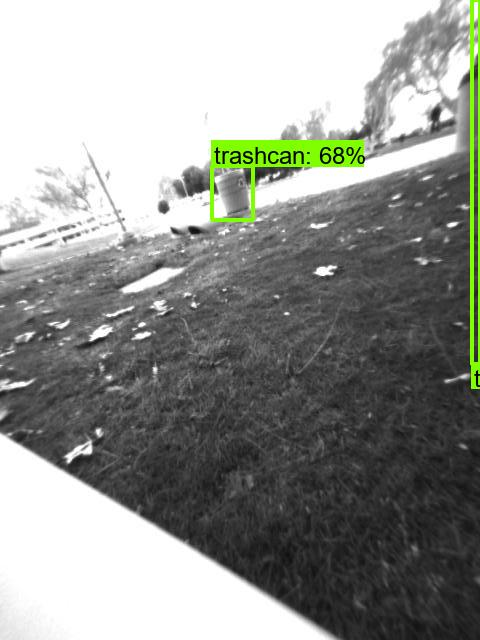trashcan: (211, 164, 253, 216)
